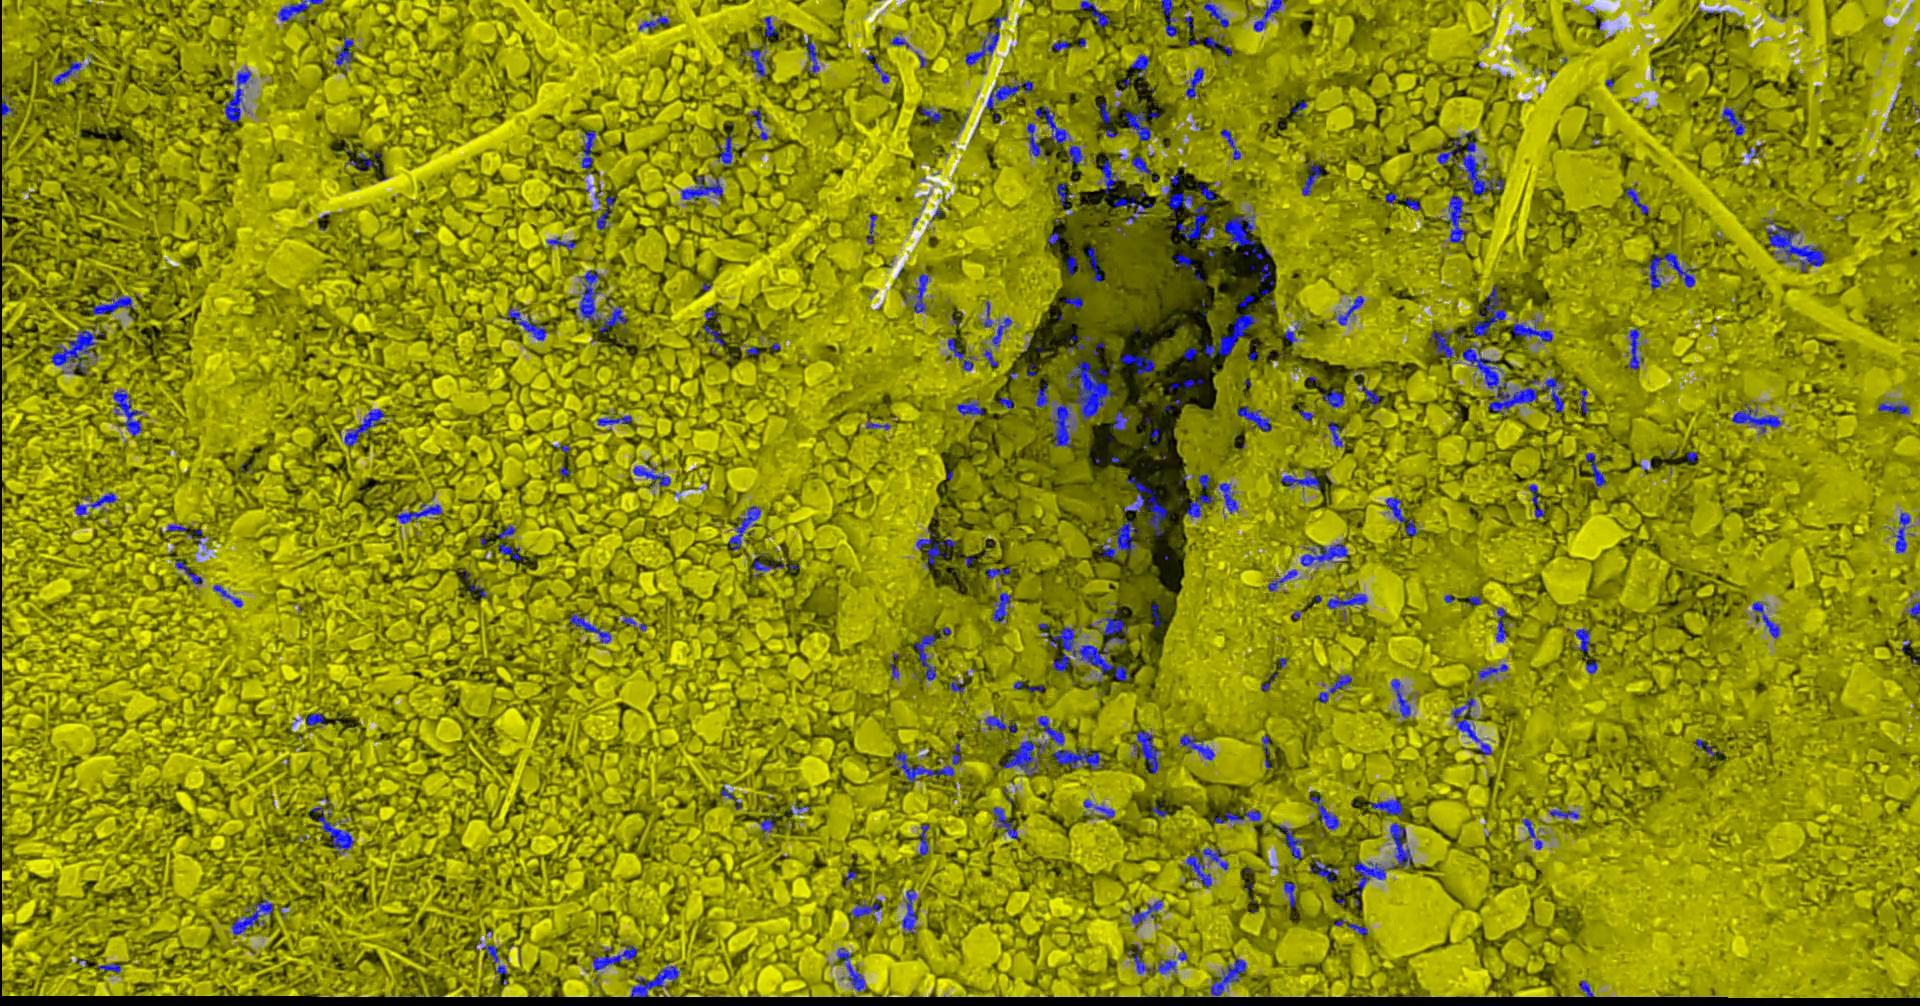ant: (1039, 715, 1105, 770), (580, 269, 629, 332), (1768, 224, 1827, 271), (897, 742, 963, 782), (1125, 476, 1168, 537), (52, 326, 105, 373), (1451, 697, 1493, 754), (1206, 312, 1260, 357), (312, 800, 356, 854), (968, 13, 1008, 66), (1225, 213, 1272, 259), (1646, 251, 1697, 290), (1473, 283, 1507, 337), (988, 80, 1034, 119), (1187, 847, 1230, 887), (1352, 860, 1387, 909), (340, 409, 386, 446), (1004, 739, 1051, 775), (631, 965, 681, 997), (232, 898, 274, 935), (1129, 942, 1178, 973), (504, 307, 549, 340), (729, 506, 762, 550), (225, 70, 253, 122), (1103, 520, 1142, 558), (1733, 403, 1783, 432), (917, 532, 957, 568), (114, 389, 143, 436), (838, 948, 869, 991), (1211, 958, 1247, 995), (1036, 105, 1070, 144), (1178, 205, 1217, 239), (592, 944, 639, 970), (1387, 497, 1418, 536), (571, 614, 613, 643), (682, 175, 724, 203), (1134, 730, 1161, 774), (1310, 790, 1340, 829), (1390, 822, 1415, 868), (1115, 194, 1154, 222), (483, 944, 509, 984), (1752, 601, 1782, 638), (1302, 542, 1349, 565), (1449, 194, 1470, 244), (1168, 173, 1194, 213), (916, 633, 937, 680), (77, 492, 119, 516), (1126, 111, 1161, 140), (499, 525, 527, 560), (279, 0, 325, 22), (397, 502, 443, 523), (1514, 319, 1554, 343), (1319, 673, 1352, 702), (1181, 733, 1217, 760), (1121, 347, 1156, 373), (1255, 0, 1284, 30), (1175, 253, 1205, 282), (1335, 295, 1365, 324), (949, 337, 975, 370), (743, 43, 768, 77), (1054, 401, 1073, 447), (1238, 405, 1272, 431), (93, 295, 135, 315), (994, 807, 1020, 840), (1280, 826, 1305, 859), (705, 307, 726, 345), (1283, 467, 1321, 489), (635, 465, 672, 486), (1187, 492, 1217, 518), (1133, 899, 1163, 925), (1330, 589, 1369, 608), (1393, 678, 1412, 718), (1082, 0, 1111, 25), (1543, 377, 1564, 412), (903, 889, 919, 934), (1895, 512, 1912, 553), (55, 60, 83, 85), (1723, 105, 1747, 135), (1587, 452, 1608, 486), (1205, 0, 1230, 27), (1431, 330, 1457, 357), (177, 560, 204, 584), (1310, 859, 1340, 882), (582, 130, 597, 173), (1269, 569, 1299, 591), (1523, 818, 1544, 848), (804, 36, 822, 72), (215, 584, 244, 606), (347, 151, 380, 170), (1303, 163, 1322, 196), (1222, 128, 1242, 159), (754, 556, 785, 577), (1102, 159, 1120, 193), (1627, 187, 1650, 213), (598, 413, 632, 431), (1220, 481, 1239, 513), (1084, 799, 1116, 818), (851, 898, 883, 917), (1162, 0, 1178, 36), (598, 196, 616, 229), (1371, 798, 1404, 815), (1630, 328, 1644, 370), (993, 318, 1013, 345), (639, 13, 670, 30), (337, 37, 356, 66), (993, 592, 1012, 621), (916, 273, 930, 312), (985, 715, 1018, 732), (1187, 66, 1205, 97), (1088, 246, 1103, 282), (1530, 484, 1545, 518), (753, 109, 770, 140), (717, 136, 734, 166), (1131, 53, 1150, 79), (1479, 663, 1509, 680), (1029, 122, 1043, 156), (957, 399, 985, 415), (1697, 738, 1722, 754), (1133, 156, 1154, 175), (922, 105, 945, 123), (1170, 379, 1205, 390), (1323, 389, 1346, 406), (1879, 401, 1911, 414), (1497, 607, 1509, 641), (1112, 410, 1131, 431), (1330, 420, 1343, 447), (1576, 627, 1591, 652), (1363, 386, 1382, 405), (1057, 183, 1073, 205), (549, 236, 577, 249), (1217, 810, 1244, 823), (919, 824, 931, 855), (874, 62, 890, 83), (1261, 263, 1276, 285), (1036, 384, 1050, 406), (761, 810, 776, 831), (1285, 880, 1297, 907), (764, 15, 778, 37), (469, 582, 488, 597), (1263, 735, 1272, 767), (988, 567, 1012, 578), (1200, 183, 1217, 199), (1069, 334, 1086, 351), (1580, 981, 1596, 997), (1550, 809, 1581, 818), (1070, 145, 1084, 164), (1065, 295, 1084, 309), (309, 713, 328, 727), (99, 962, 122, 973), (869, 213, 877, 243), (984, 349, 999, 366), (1101, 102, 1112, 123), (1152, 603, 1162, 627), (1293, 100, 1308, 116), (1909, 600, 1920, 620), (1349, 923, 1369, 935), (1239, 293, 1256, 307), (1581, 387, 1590, 413), (891, 36, 910, 47), (867, 420, 891, 429), (1, 102, 17, 116), (1153, 803, 1170, 815), (1068, 255, 1078, 276), (952, 678, 966, 692), (985, 301, 993, 326), (1054, 39, 1070, 51), (1246, 810, 1263, 821), (1206, 36, 1222, 47), (1406, 198, 1421, 210), (999, 396, 1015, 408), (1200, 473, 1211, 488), (1185, 347, 1197, 359), (1286, 329, 1298, 343), (1468, 594, 1483, 605), (1587, 661, 1599, 673), (168, 525, 189, 531)
